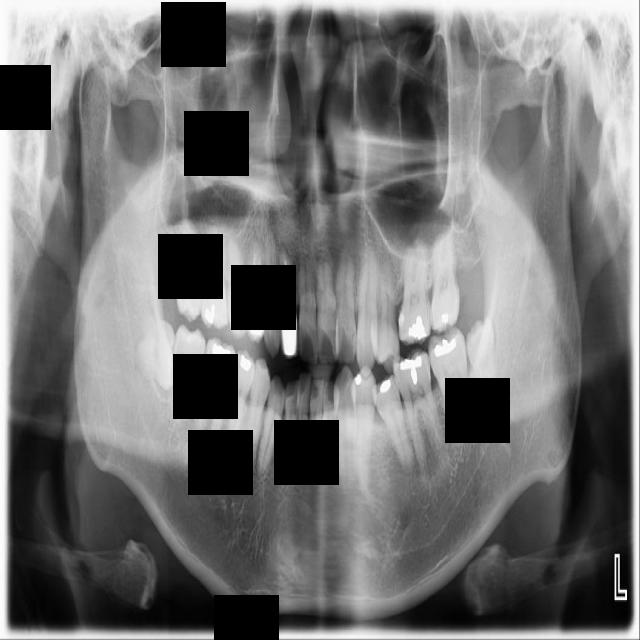52: (419, 324, 476, 381), (388, 345, 441, 401), (197, 335, 241, 389), (363, 372, 410, 419), (429, 279, 461, 335), (198, 278, 229, 330), (398, 299, 432, 346), (350, 365, 378, 415), (231, 349, 256, 394), (243, 303, 268, 345), (279, 321, 298, 359)
73: (276, 246, 297, 325), (248, 237, 266, 311), (583, 549, 592, 563)
BioHorizons Implant: (429, 216, 463, 336)
Biomet 3i Implant: (464, 316, 497, 407)
Blue Sky Bio Implant: (424, 323, 479, 432)
Caries: (175, 218, 205, 324)
Implant: (169, 323, 208, 418)
Keystone Dental Implant: (134, 319, 177, 392)
